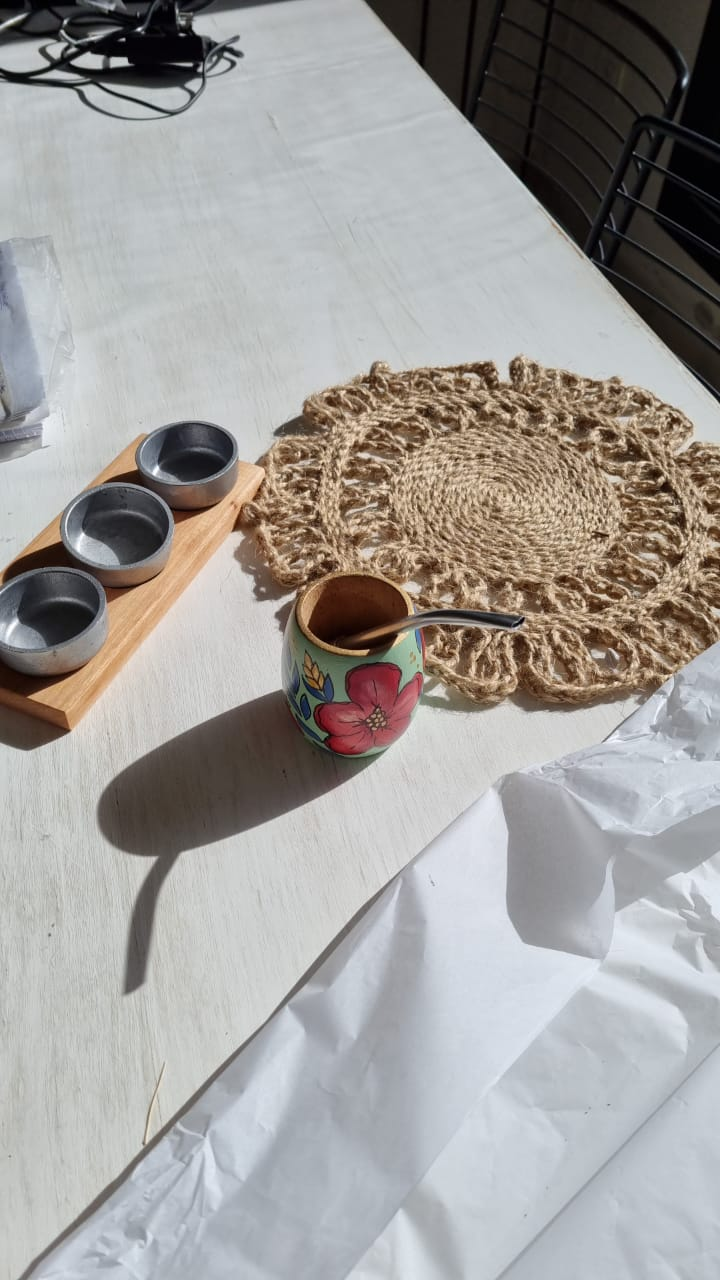mate: (280, 571, 428, 756)
